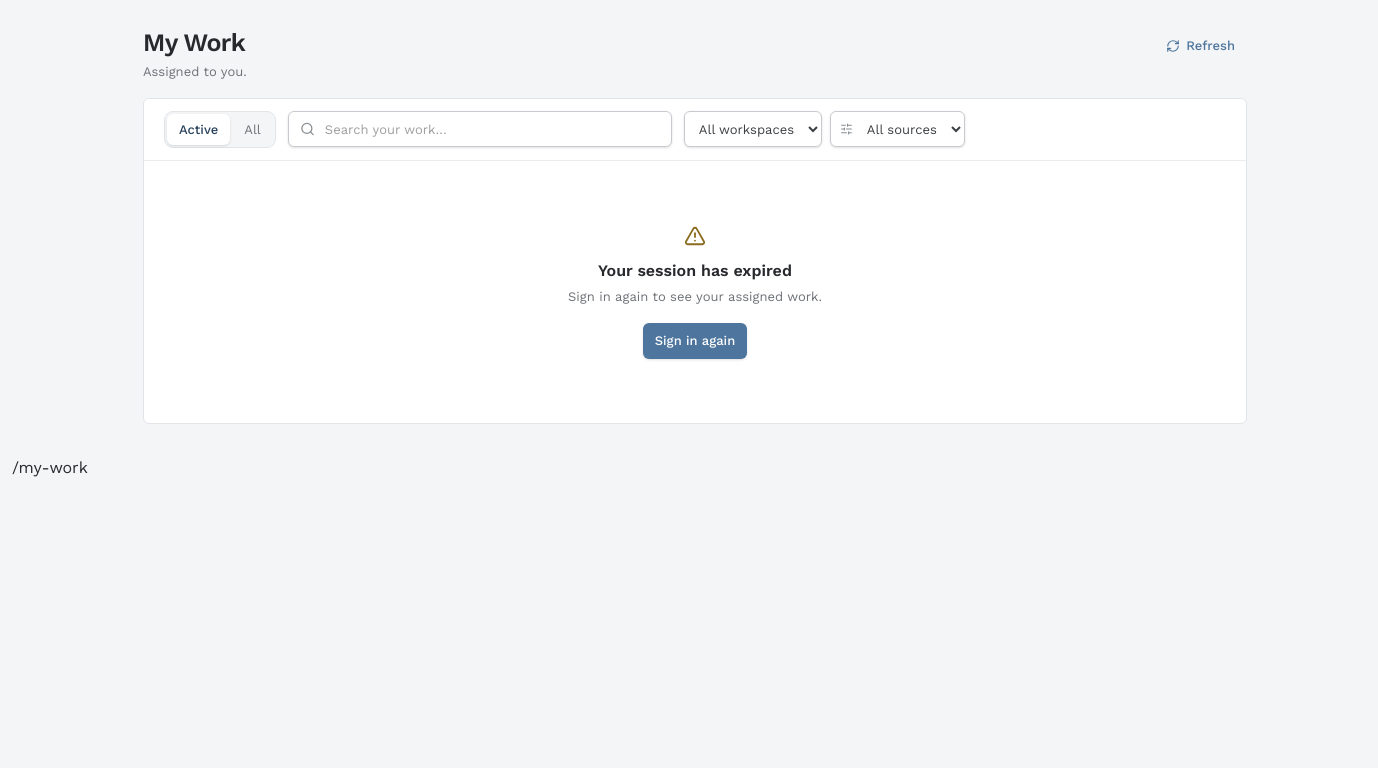
Test: MyWorkPage › clears the session and reaches the sign-in surface from the auth error route
Expected: the element with test id "my-work-session-error" is shown, [568,225,822,358]
Click the button "Sign in again": (695,340) [643,322,747,358]
(page scrolled)
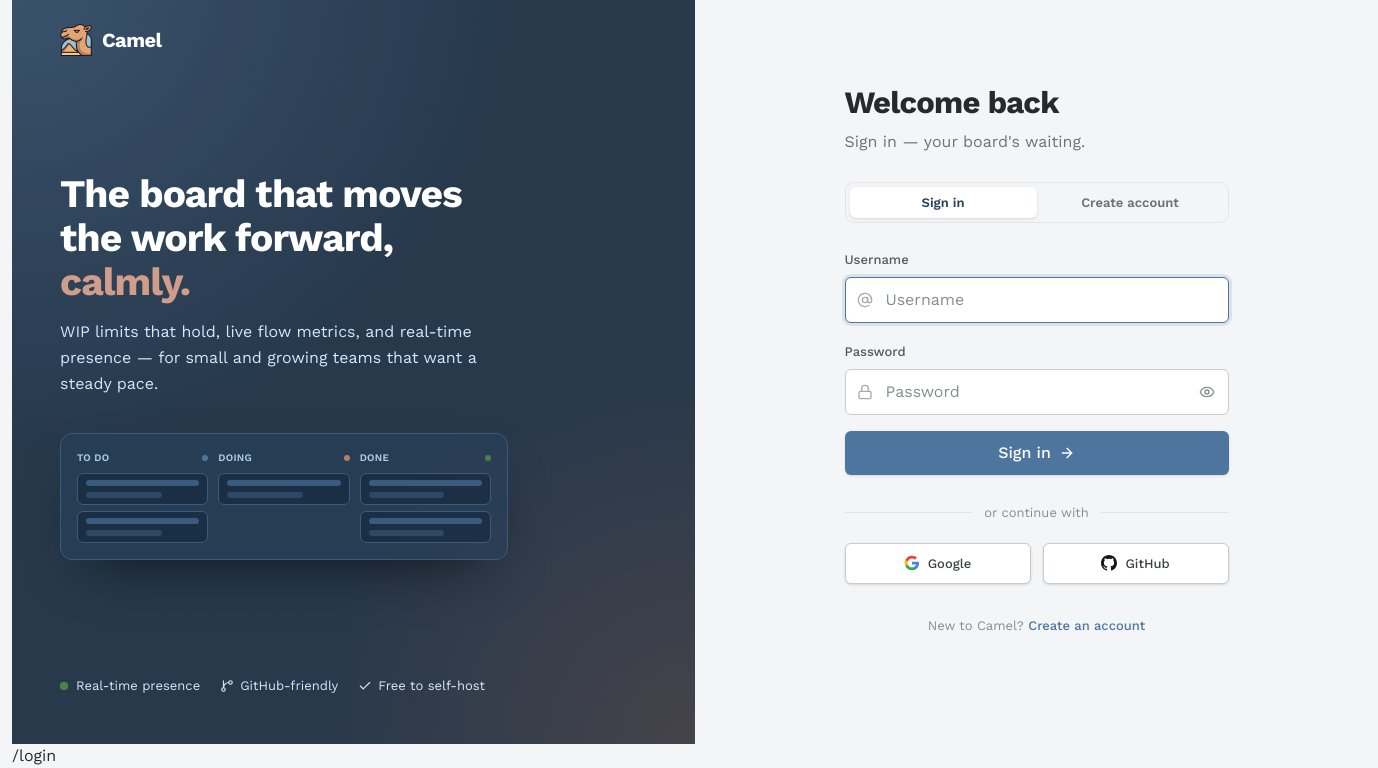
Now the heading "Welcome back" is shown, box [844,84,1059,121]
Now the text with test id "location" reads "/login", box [12,746,56,765]
